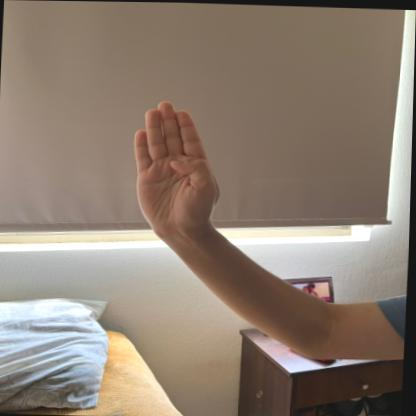B: (124, 94, 226, 239)
